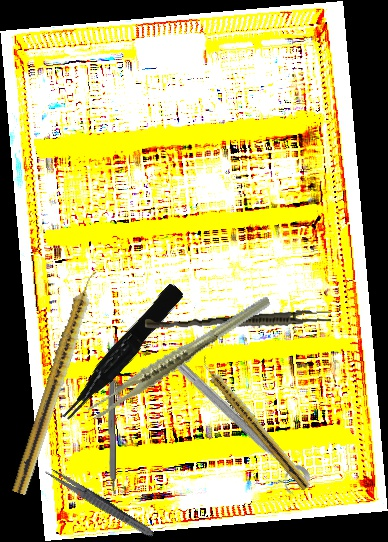Dressing Forceps: (42, 464, 157, 541)
Fixation Ring: (157, 350, 313, 498)
Handpiece: (10, 267, 104, 498), (195, 354, 314, 492)
Scalpel Handle: (106, 373, 117, 495)
Tissue Forceps: (72, 294, 287, 422), (51, 282, 191, 424), (144, 306, 332, 336)
